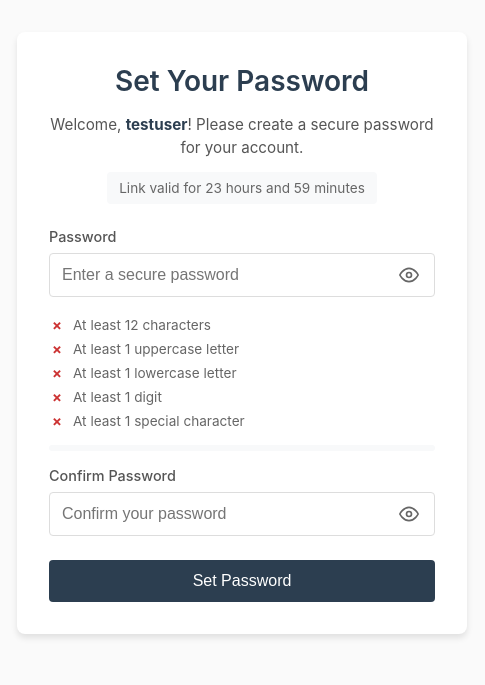
Scenario: SetPasswordPage › Password set flow › displays error message on password set failure
Type "ValidPass123!" into the password field labelled "Password" at (242, 275), box top-left (49, 253), bottom-right (435, 297)
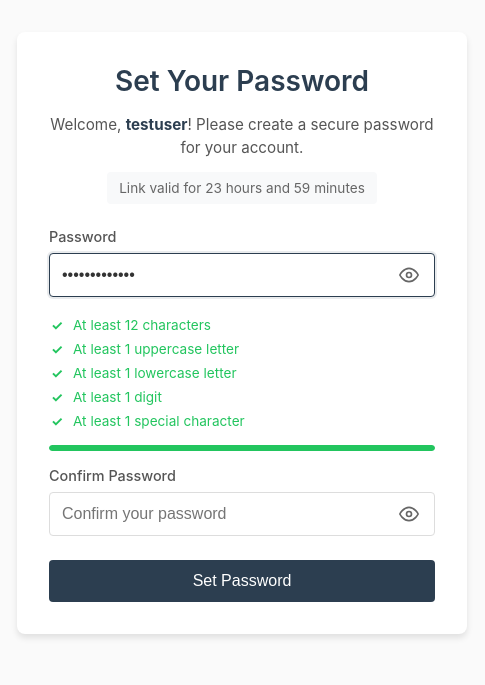
Type "ValidPass123!" into the password field labelled "Confirm Password" at (242, 514), box top-left (49, 492), bottom-right (435, 536)
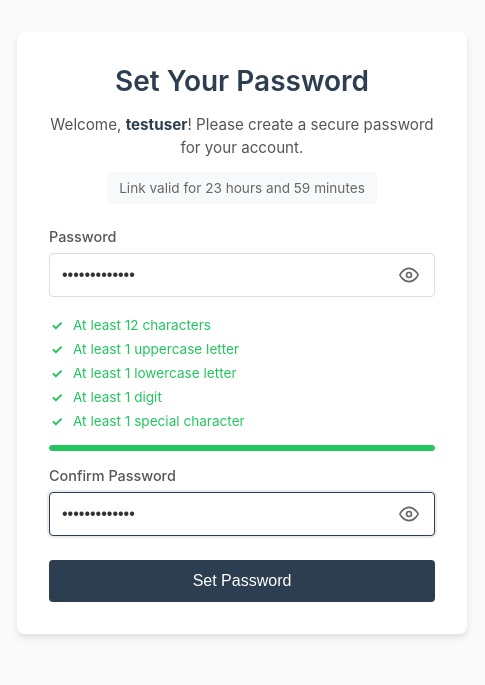
Click the button "Set Password" at (242, 581), box top-left (49, 560), bottom-right (435, 602)
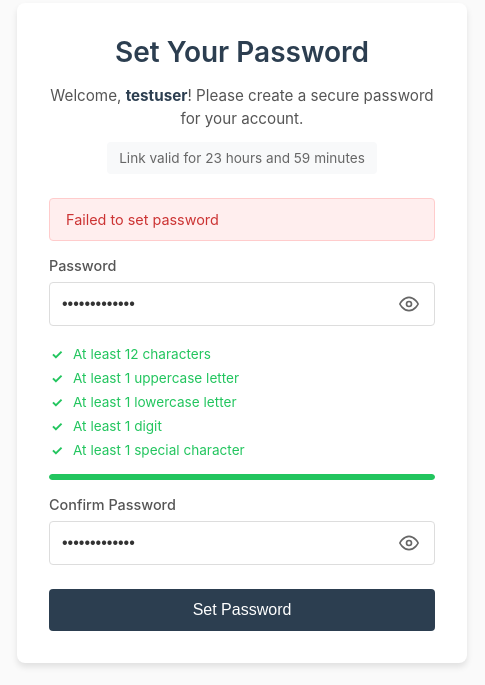
Expected: the message "Failed to set password" is shown, top-left (49, 198), bottom-right (435, 241)
